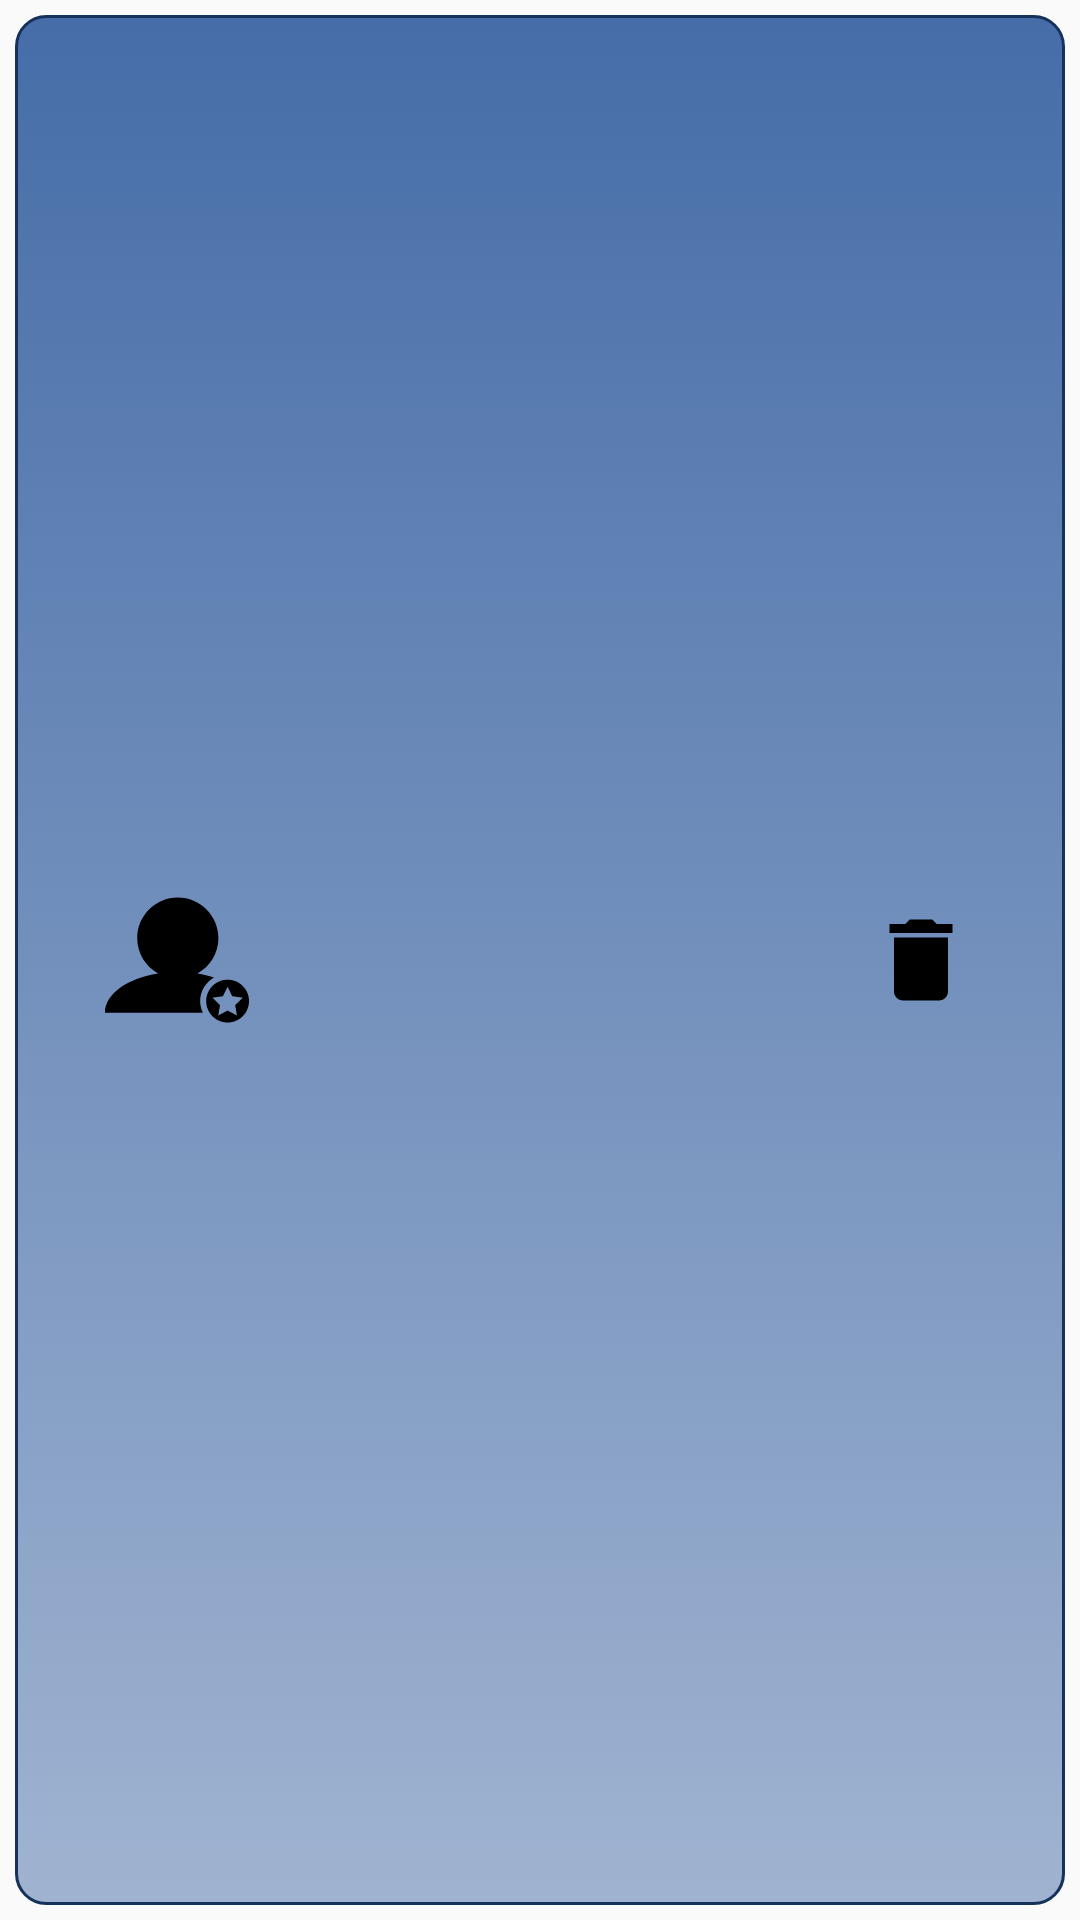

Screen size 1080*1920. Icon name, then its center in pixels as (x=x, y=y):
Deletar Supervisor: (x=921, y=960)
supervisor: (x=177, y=960)
